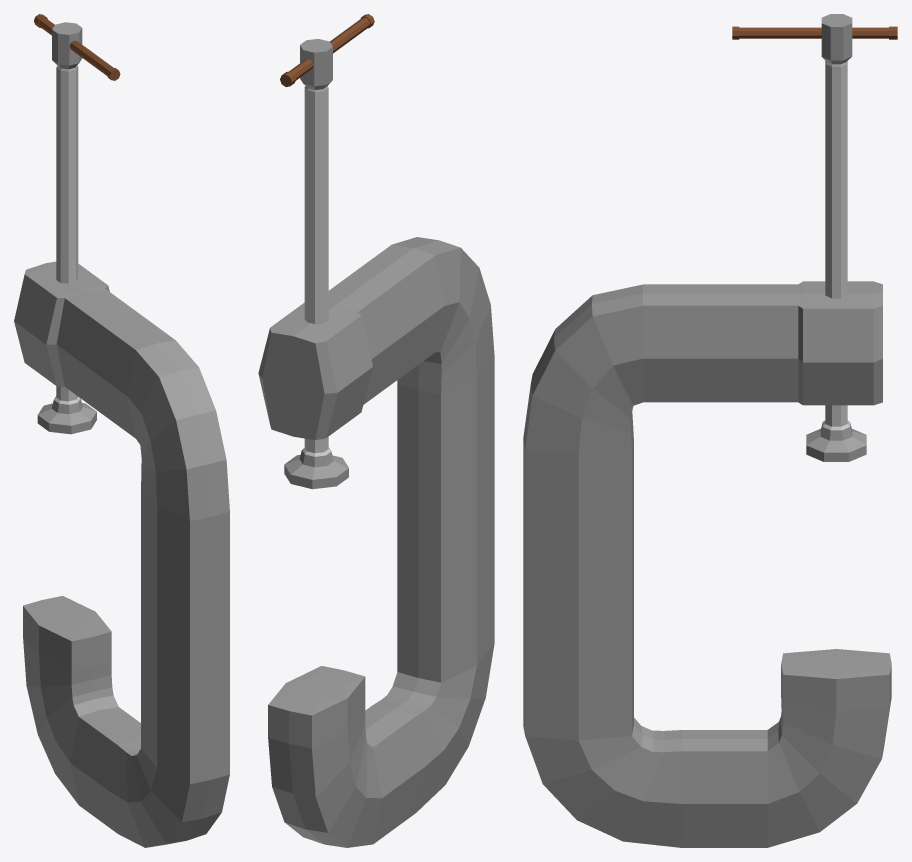
The model's file is clamp01.obj.
The picture shows the model from 3 angles, left to right: view 1: azimuth 30°, elevation 25°; view 2: azimuth 150°, elevation 25°; view 3: azimuth 270°, elevation 25°; orthographic projection. The views are drawn at different scales.
Visible parts, largest first — view 1: Cylinder.001_Cylinder.002; view 2: Cylinder.001_Cylinder.002; view 3: Cylinder.001_Cylinder.002.
Boxes of the visible parts, x1=… form: Cylinder.001_Cylinder.002: x1=14, y1=14, x2=229, y2=847; Cylinder.001_Cylinder.002: x1=258, y1=14, x2=494, y2=847; Cylinder.001_Cylinder.002: x1=523, y1=14, x2=897, y2=847.
Bounding box in the file's own units: 0.0358 × 0.3537 × 0.1467.
Materials: 1 (1 with a texture image).
